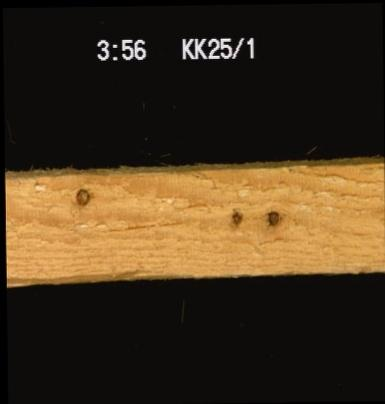dry_knot: (72, 185, 89, 205), (229, 205, 242, 224), (265, 208, 278, 225)
split: (90, 215, 187, 231)
wave: (5, 262, 143, 283)
